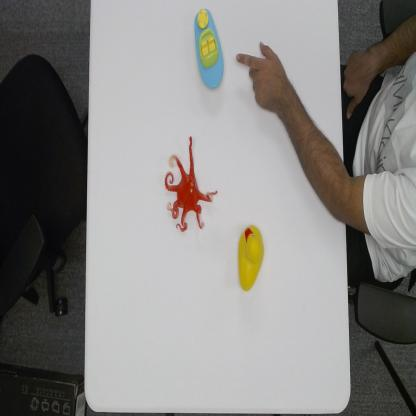Arm: (291, 82, 352, 227)
Boat: (193, 6, 225, 92)
Duck: (236, 223, 264, 293)
Hand: (235, 37, 291, 116)
Octopus: (164, 135, 218, 234)
